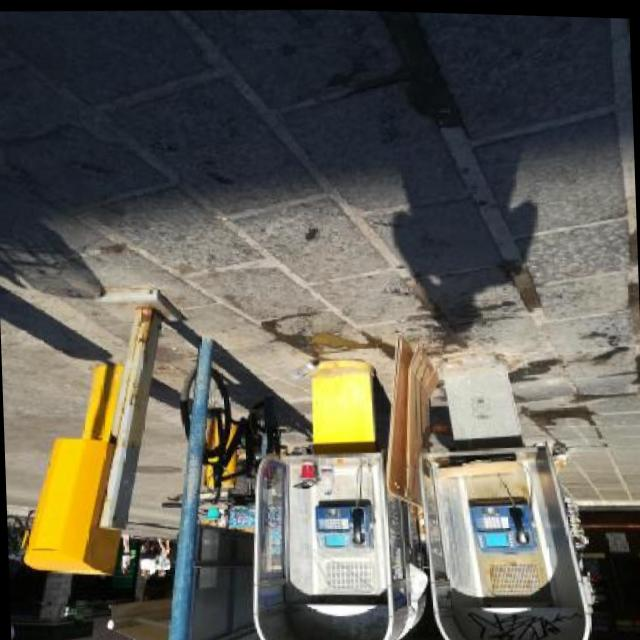cardboard: (399, 342, 444, 502)
plastic: (287, 359, 319, 380)
